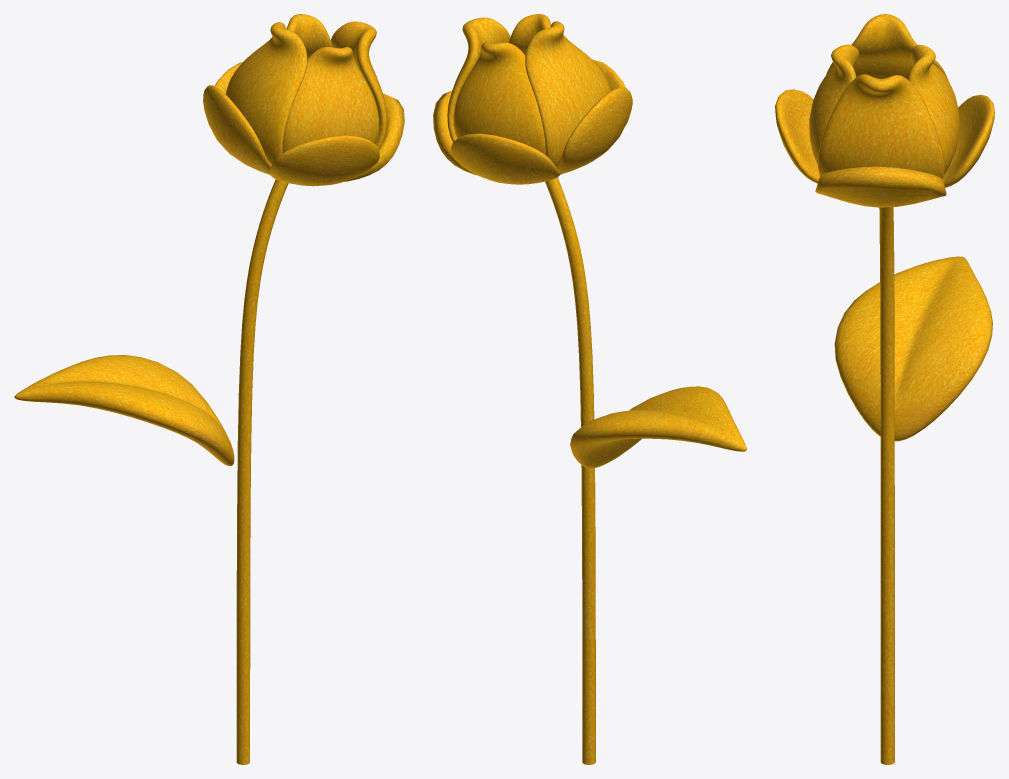
File: flower-layerWeight.glb
The picture shows the model from 3 angles, left to right: view 1: azimuth 30°, elevation 25°; view 2: azimuth 150°, elevation 25°; view 3: azimuth 270°, elevation 25°; orthographic projection. The views are drawn at different scales.
Visible parts, largest first — view 1: Stem; view 2: Stem; view 3: Stem.
Boxes of the visible parts, left/top/right/bottom form: Stem: left=14, top=14, right=404, bottom=764; Stem: left=433, top=14, right=746, bottom=764; Stem: left=775, top=14, right=994, bottom=764.
Bounding box in the file's own units: 0.7918 × 1.6 × 0.4177.
1 material, 1 textured.
